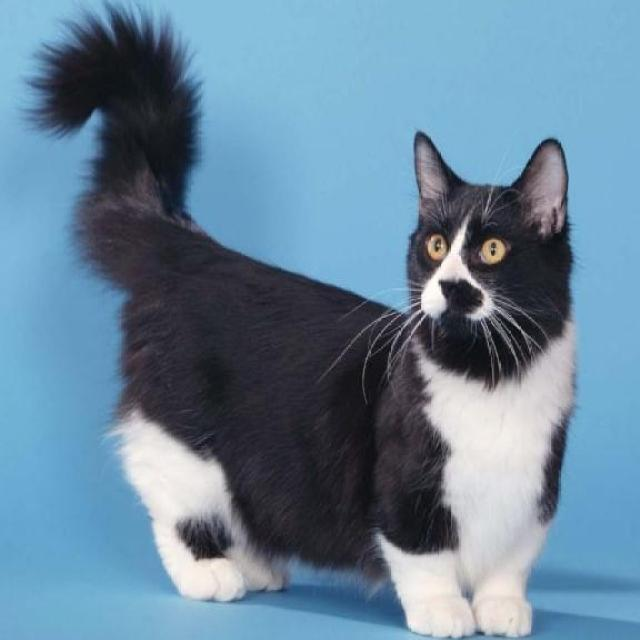Munchkin: (25, 0, 582, 640)
